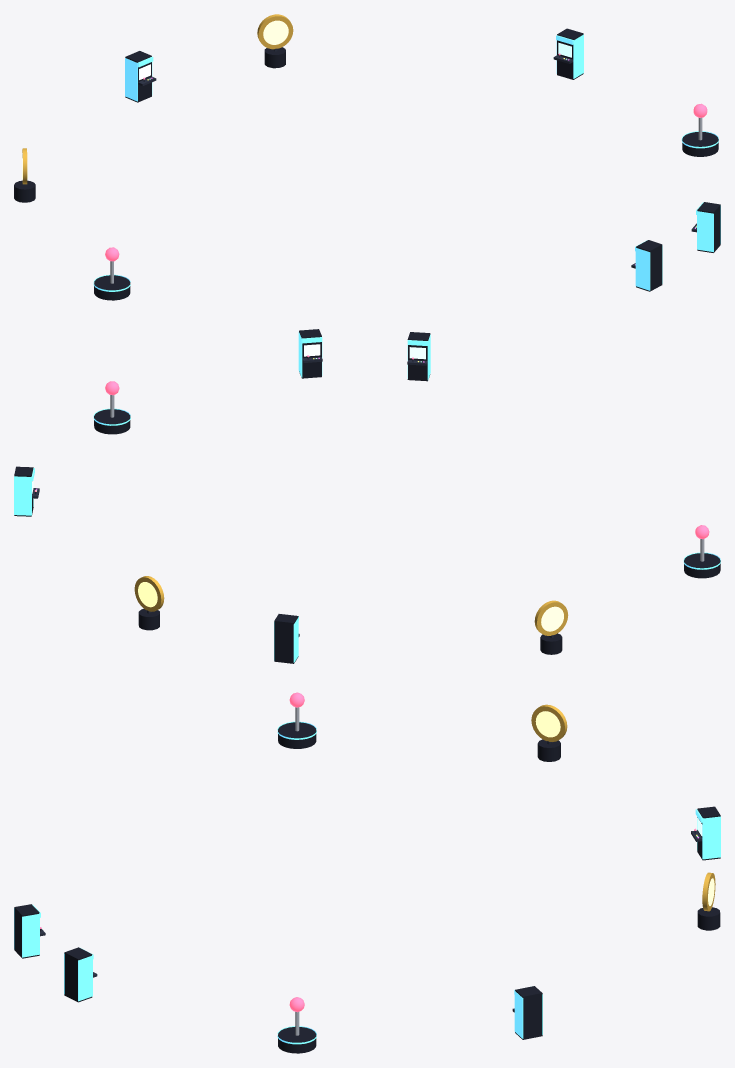
The picture shows the model from 3 angles, top to bottom: view 1: azimuth 30°, elevation 25°; view 2: azimuth 150°, elevation 25°; view 3: azimuth 270°, elevation 25°; orthographic projection. The views are drawn at different scales.
Visible parts, largest first — view 1: nexo_decor_arcade.lod0; view 2: nexo_decor_arcade.lod0; view 3: nexo_decor_arcade.lod0.
Boxes of the visible parts, <box> form: nexo_decor_arcade.lod0: <box>14,14,720,300</box>; nexo_decor_arcade.lod0: <box>14,329,720,663</box>; nexo_decor_arcade.lod0: <box>14,692,720,1053</box>.
Size of the model in its own units: 29.53 by 2.2 by 27.47.
